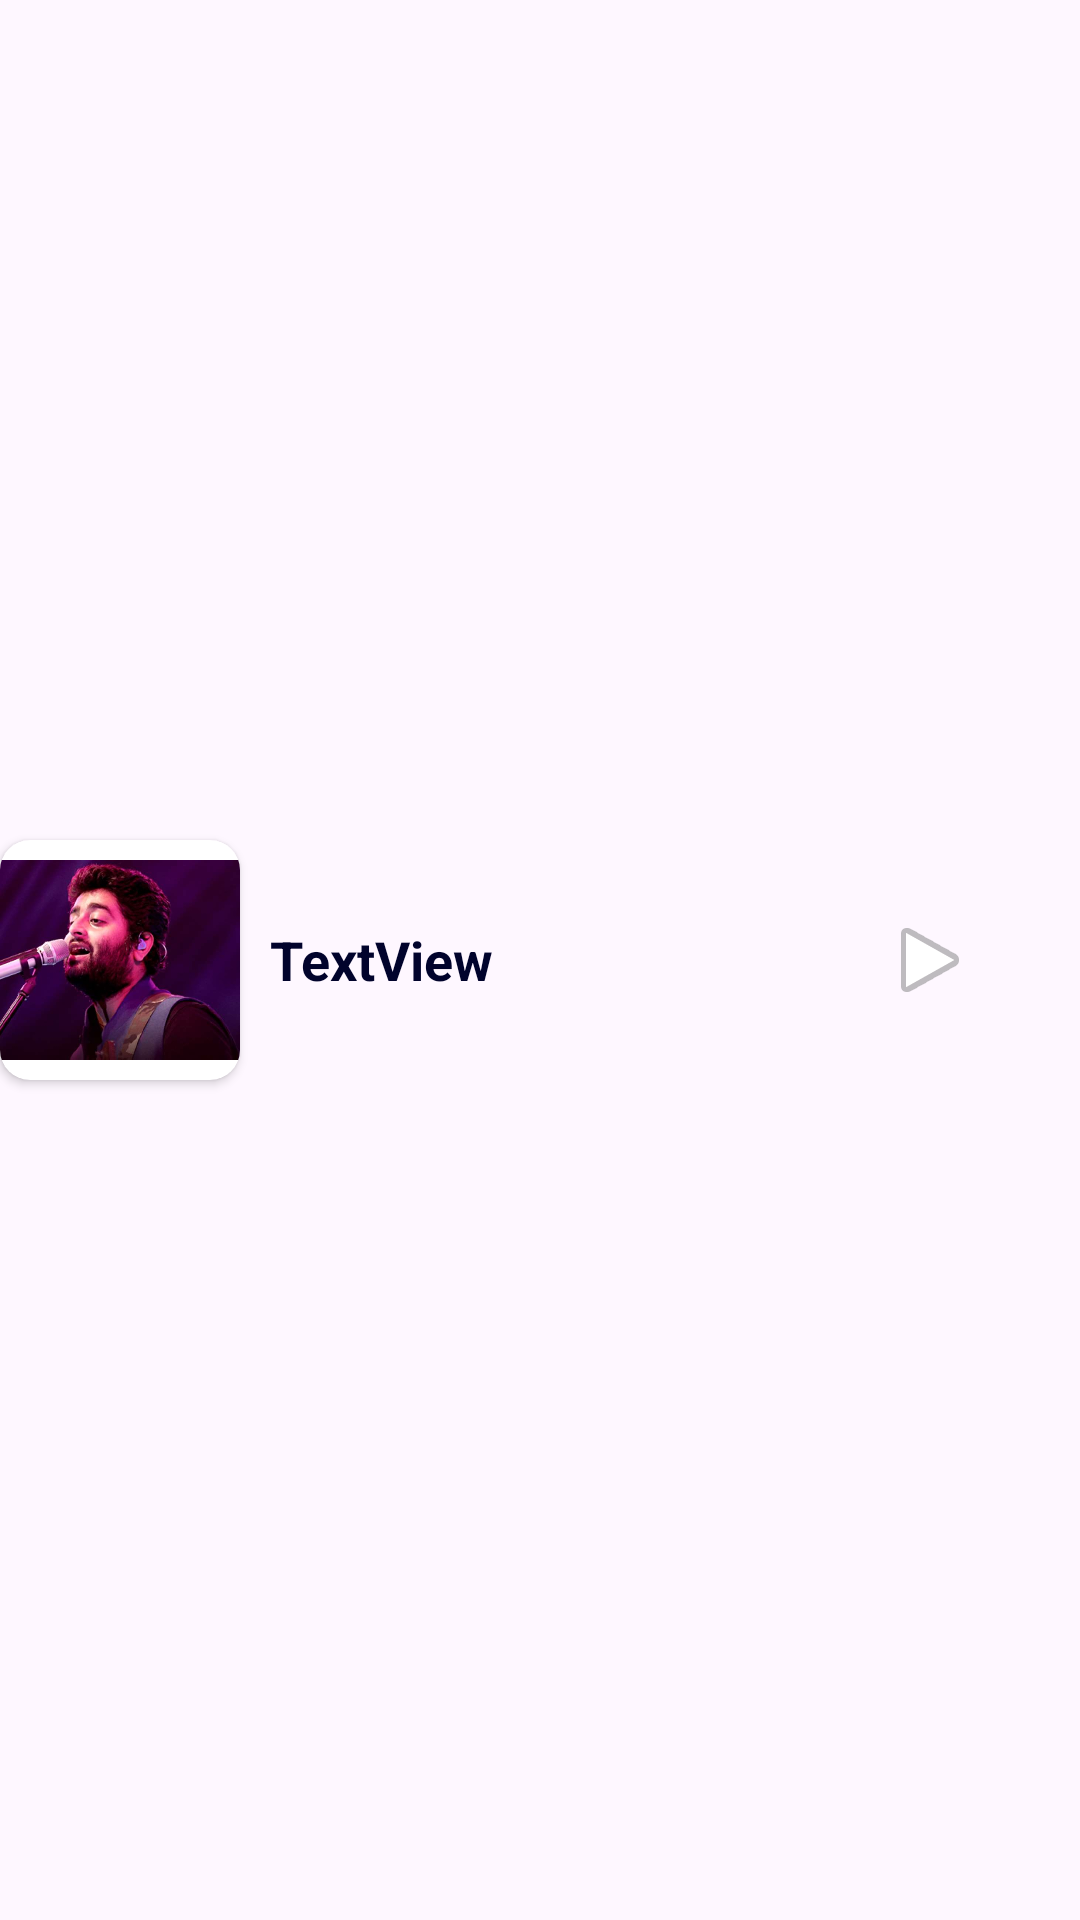

Named icons in this screenshot (1080*1920) and their centers, point (x, y):
play: point (930, 960)
